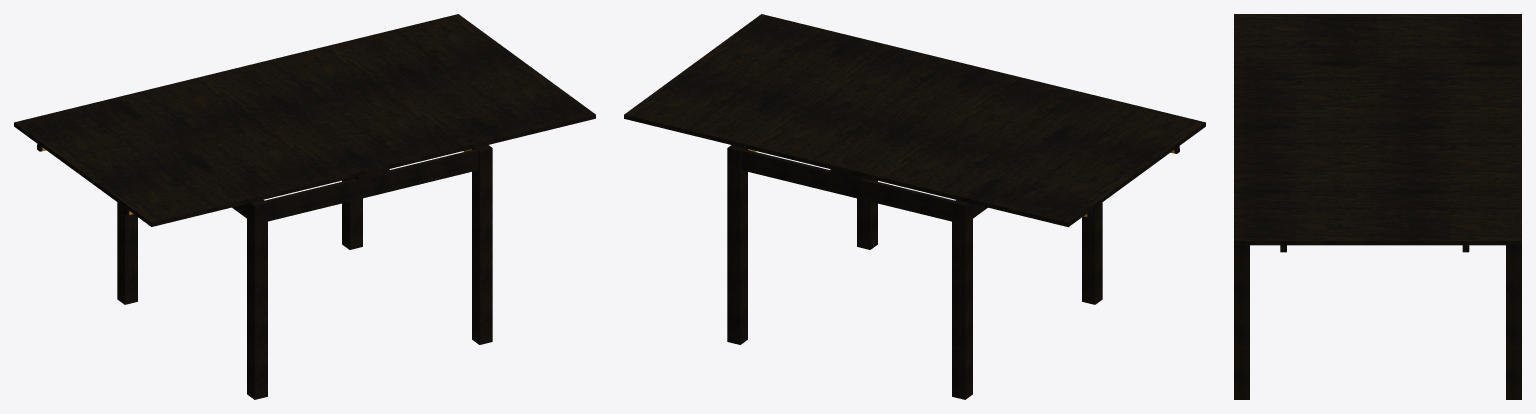
Rendered from bjursta_table_3_obj0_object.obj.
The picture shows the model from 3 angles, left to right: view 1: azimuth 30°, elevation 25°; view 2: azimuth 150°, elevation 25°; view 3: azimuth 270°, elevation 25°; orthographic projection. The views are drawn at different scales.
Parts seen in each view (by area): view 1: Mesh2 Group2 Bjursta_168x90_1 Model, Mesh7 Group7 Group_77_1 Bjursta_168x90_1 Model, Mesh12 Group8 Group_77_2 Bjursta_168x90_1 Model, Mesh16 Group_75_2 Bjursta_168x90_1 Model, Mesh6 Group6 Bjursta_168x90_1 Model, Mesh3 Group3 Bjursta_168x90_1 Model, Mesh4 Group4 Bjursta_168x90_1 Model, Mesh1 Group1 Bjursta_168x90_1 Model; view 2: Mesh2 Group2 Bjursta_168x90_1 Model, Mesh7 Group7 Group_77_1 Bjursta_168x90_1 Model, Mesh12 Group8 Group_77_2 Bjursta_168x90_1 Model, Mesh15 Group_75_1 Bjursta_168x90_1 Model, Mesh4 Group4 Bjursta_168x90_1 Model, Mesh1 Group1 Bjursta_168x90_1 Model, Mesh6 Group6 Bjursta_168x90_1 Model, Mesh3 Group3 Bjursta_168x90_1 Model; view 3: Mesh2 Group2 Bjursta_168x90_1 Model, Mesh12 Group8 Group_77_2 Bjursta_168x90_1 Model, Mesh7 Group7 Group_77_1 Bjursta_168x90_1 Model, Mesh1 Group1 Bjursta_168x90_1 Model, Mesh3 Group3 Bjursta_168x90_1 Model.
Boxes of the visible parts, <box> form: Mesh2 Group2 Bjursta_168x90_1 Model: <box>117,39,492,201</box>; Mesh7 Group7 Group_77_1 Bjursta_168x90_1 Model: <box>14,97,254,226</box>; Mesh12 Group8 Group_77_2 Bjursta_168x90_1 Model: <box>355,14,595,143</box>; Mesh16 Group_75_2 Bjursta_168x90_1 Model: <box>265,149,478,221</box>; Mesh6 Group6 Bjursta_168x90_1 Model: <box>247,200,267,399</box>; Mesh3 Group3 Bjursta_168x90_1 Model: <box>472,145,492,344</box>; Mesh4 Group4 Bjursta_168x90_1 Model: <box>117,202,137,304</box>; Mesh1 Group1 Bjursta_168x90_1 Model: <box>342,178,362,249</box>; Mesh2 Group2 Bjursta_168x90_1 Model: <box>727,39,1102,201</box>; Mesh7 Group7 Group_77_1 Bjursta_168x90_1 Model: <box>965,97,1205,227</box>; Mesh12 Group8 Group_77_2 Bjursta_168x90_1 Model: <box>624,14,864,143</box>; Mesh15 Group_75_1 Bjursta_168x90_1 Model: <box>741,149,954,221</box>; Mesh4 Group4 Bjursta_168x90_1 Model: <box>952,200,972,399</box>; Mesh1 Group1 Bjursta_168x90_1 Model: <box>727,145,747,344</box>; Mesh6 Group6 Bjursta_168x90_1 Model: <box>1082,202,1102,304</box>; Mesh3 Group3 Bjursta_168x90_1 Model: <box>857,178,877,249</box>; Mesh2 Group2 Bjursta_168x90_1 Model: <box>1234,66,1521,188</box>; Mesh12 Group8 Group_77_2 Bjursta_168x90_1 Model: <box>1234,188,1521,245</box>; Mesh7 Group7 Group_77_1 Bjursta_168x90_1 Model: <box>1234,14,1521,66</box>; Mesh1 Group1 Bjursta_168x90_1 Model: <box>1506,245,1521,399</box>; Mesh3 Group3 Bjursta_168x90_1 Model: <box>1234,245,1249,399</box>.
Size of the model in its own units: 66.14 by 28.75 by 35.44.
Materials: 3 (2 with a texture image).
